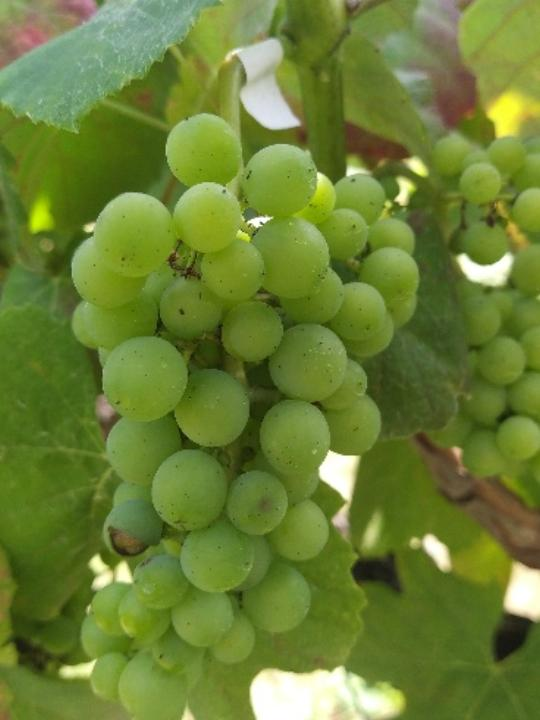grape: (67, 106, 427, 720)
